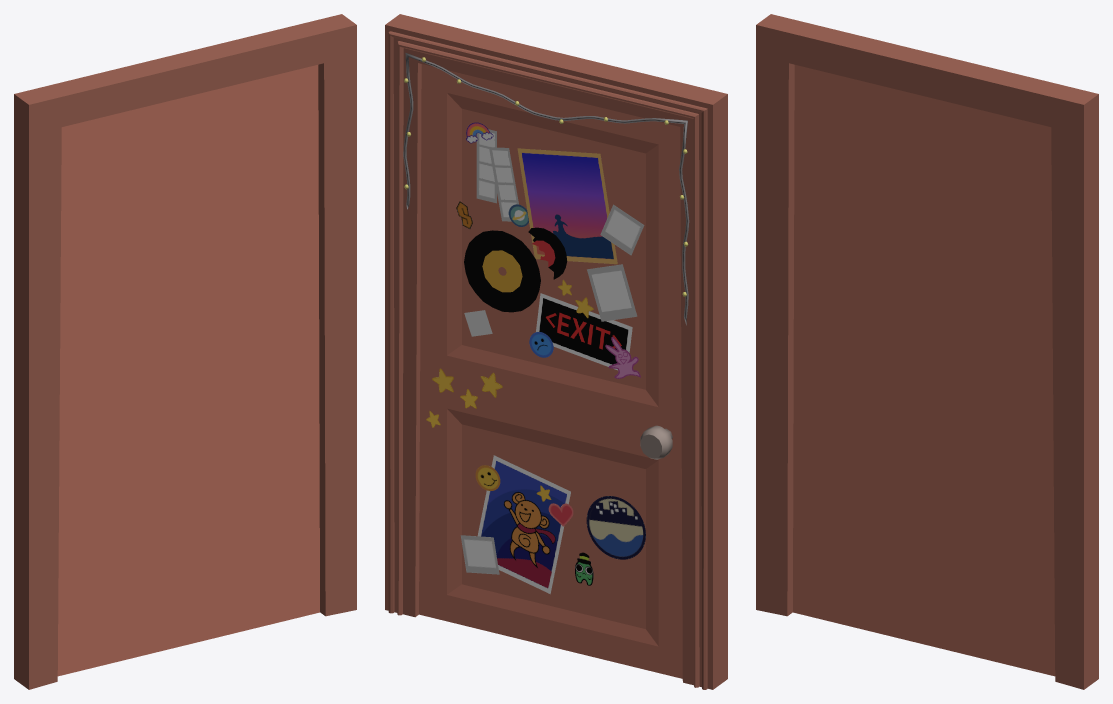
File: decorative_door.fbx
The picture shows the model from 3 angles, left to right: view 1: azimuth 30°, elevation 25°; view 2: azimuth 150°, elevation 25°; view 3: azimuth 330°, elevation 25°; orthographic projection.
Parts seen in each view (by area): view 1: door, door_frame; view 2: door, door_frame, Poster1, Poster2, Exit_Sign, Record, Poster3, Light_string, Photo3, Star_Stickers, Photo0, Circle.001 (+7 smaller); view 3: door, door_frame.
Boxes of the visible parts, <box> form: door: <box>57,65,319,676</box>; door_frame: <box>14,14,356,689</box>; door: <box>419,64,682,678</box>; door_frame: <box>385,14,727,689</box>; Poster1: <box>517,148,617,264</box>; Poster2: <box>477,455,570,594</box>; Exit_Sign: <box>536,293,632,370</box>; Record: <box>464,230,540,312</box>; Poster3: <box>586,496,645,559</box>; Light_string: <box>403,53,689,325</box>; Photo3: <box>587,264,637,321</box>; Star_Stickers: <box>426,279,593,501</box>; Photo0: <box>489,147,518,221</box>; Circle.001: <box>482,250,522,292</box>; door: <box>793,65,1055,676</box>; door_frame: <box>756,14,1098,689</box>.
Size of the model in its own units: 1.3 by 0.1791 by 2.21.
34 materials, 24 textured.
